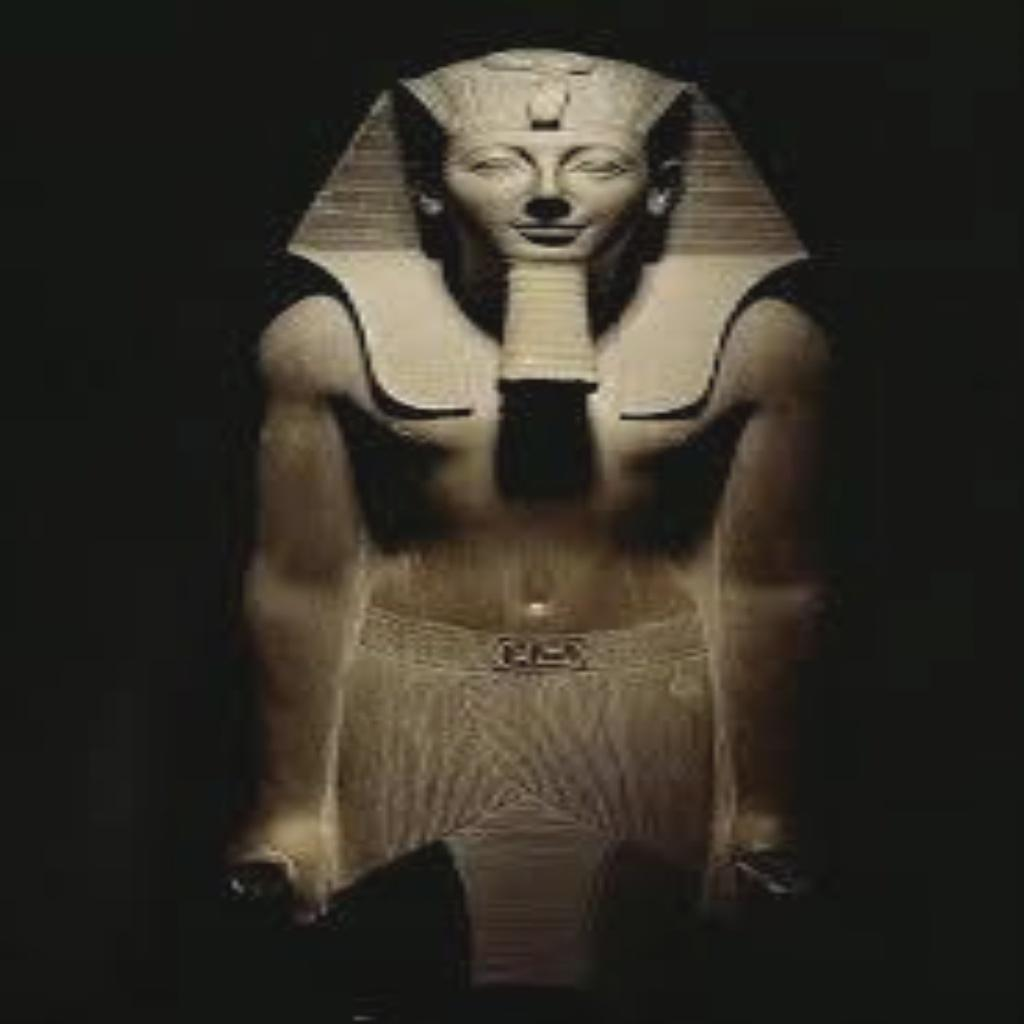King Thutmose III: (234, 38, 852, 1002)
